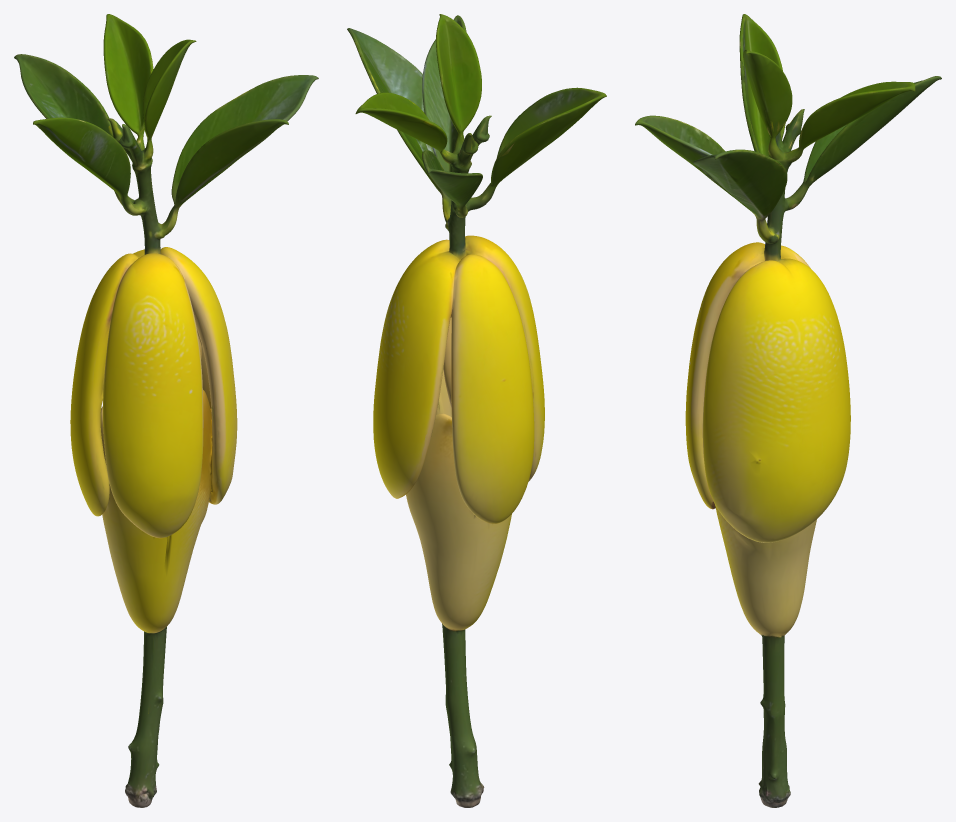
3 views of the same model, side by side, from view 1: azimuth 30°, elevation 25°; view 2: azimuth 150°, elevation 25°; view 3: azimuth 270°, elevation 25° (orthographic).
Visible parts, largest first — view 1: node_0; view 2: node_0; view 3: node_0.
Boxes of the visible parts, left/top/right/bottom form: node_0: left=14, top=14, right=318, bottom=807; node_0: left=347, top=14, right=606, bottom=807; node_0: left=635, top=14, right=941, bottom=807.
Bounding box in the file's own units: 0.4441 × 1.19 × 0.4298.
Materials: 1 (1 with a texture image).
